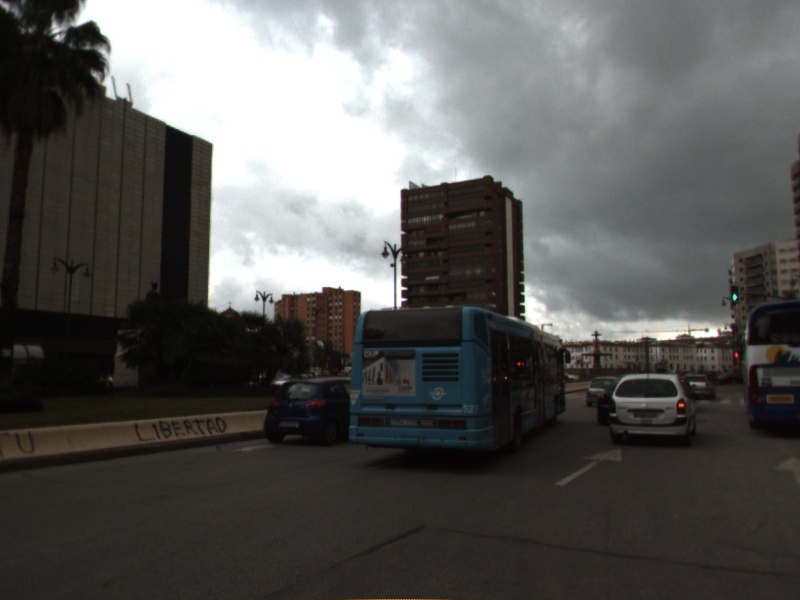STRAIGHT: (551, 447, 624, 488)
